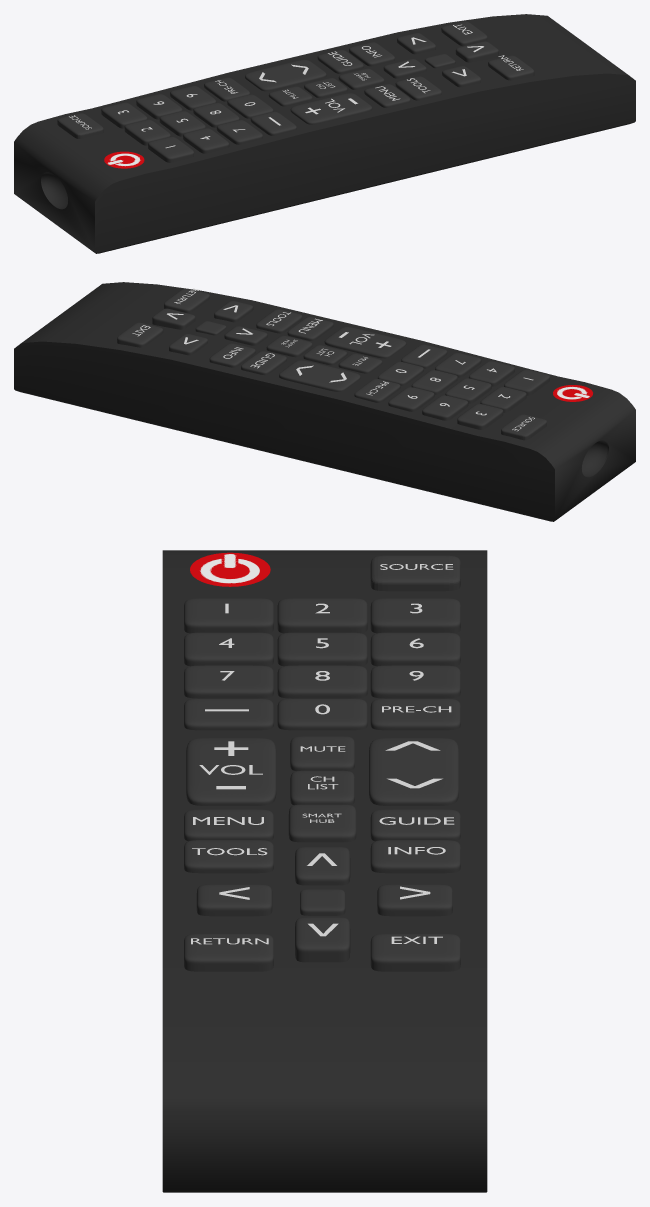
The model's file is Remote.fbx.
3 views of the same model, one above another, from view 1: azimuth 30°, elevation 25°; view 2: azimuth 150°, elevation 25°; view 3: azimuth 270°, elevation 25° (orthographic). The views are drawn at different scales.
Visible parts, largest first — view 1: Remote, Source.015, Source.013, Source.003, Source, Source.004, Source.028, Source.009, Source.027, Source.020, Source.002, Source.001 (+18 smaller); view 2: Remote, Source.015, Source.013, Source.001, Source, Source.006, Source.027, Source.007, Source.028, Source.021, Source.003, Source.020 (+18 smaller); view 3: Remote, Source.013, Source.015, Source.027, Source.028, Source, Source.001, Source.002, Source.003, Source.005, Source.006, Source.007 (+19 smaller).
Part boxes in pixels (x1=…): Remote: x1=14, y1=14, x2=635, y2=253; Source.015: x1=290, y1=93, x2=372, y2=124; Source.013: x1=245, y1=59, x2=326, y2=91; Source.003: x1=148, y1=137, x2=193, y2=162; Source: x1=57, y1=113, x2=103, y2=138; Source.004: x1=183, y1=128, x2=229, y2=153; Source.028: x1=488, y1=55, x2=534, y2=80; Source.009: x1=216, y1=120, x2=262, y2=144; Source.027: x1=441, y1=21, x2=487, y2=46; Source.020: x1=395, y1=76, x2=441, y2=100; Source.002: x1=124, y1=119, x2=170, y2=145; Source.001: x1=101, y1=102, x2=147, y2=128; Remote: x1=14, y1=282, x2=635, y2=521; Source.015: x1=324, y1=327, x2=406, y2=358; Source.013: x1=279, y1=360, x2=360, y2=391; Source.001: x1=457, y1=404, x2=503, y2=429; Source: x1=501, y1=414, x2=546, y2=440; Source.006: x1=422, y1=395, x2=468, y2=420; Source.027: x1=117, y1=322, x2=163, y2=347; Source.007: x1=388, y1=387, x2=434, y2=411; Source.028: x1=164, y1=288, x2=209, y2=313; Source.021: x1=209, y1=343, x2=255, y2=367; Source.003: x1=504, y1=369, x2=549, y2=395; Source.020: x1=256, y1=309, x2=302, y2=333; Remote: x1=162, y1=550, x2=487, y2=1192; Source.013: x1=369, y1=738, x2=458, y2=805; Source.015: x1=186, y1=738, x2=276, y2=805; Source.027: x1=370, y1=933, x2=460, y2=971; Source.028: x1=184, y1=933, x2=273, y2=971; Source: x1=370, y1=555, x2=460, y2=591; Source.001: x1=370, y1=598, x2=460, y2=633; Source.002: x1=277, y1=598, x2=367, y2=633; Source.003: x1=184, y1=598, x2=273, y2=633; Source.005: x1=277, y1=632, x2=367, y2=666; Source.006: x1=370, y1=632, x2=460, y2=666; Source.007: x1=370, y1=665, x2=460, y2=698.
Size of the model in its own units: 17.3 by 2.33 by 4.5.
